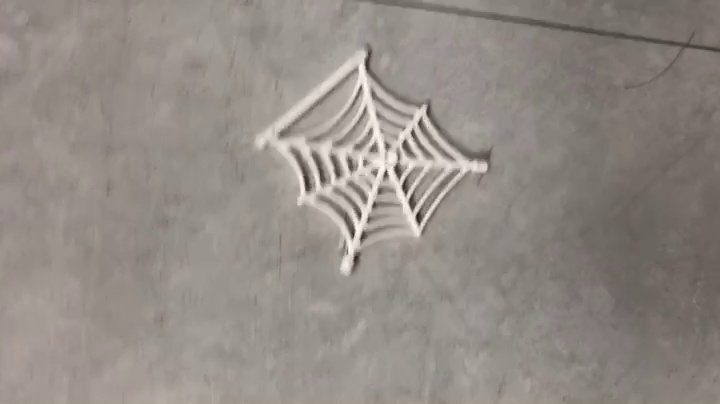web: (253, 44, 493, 278)
